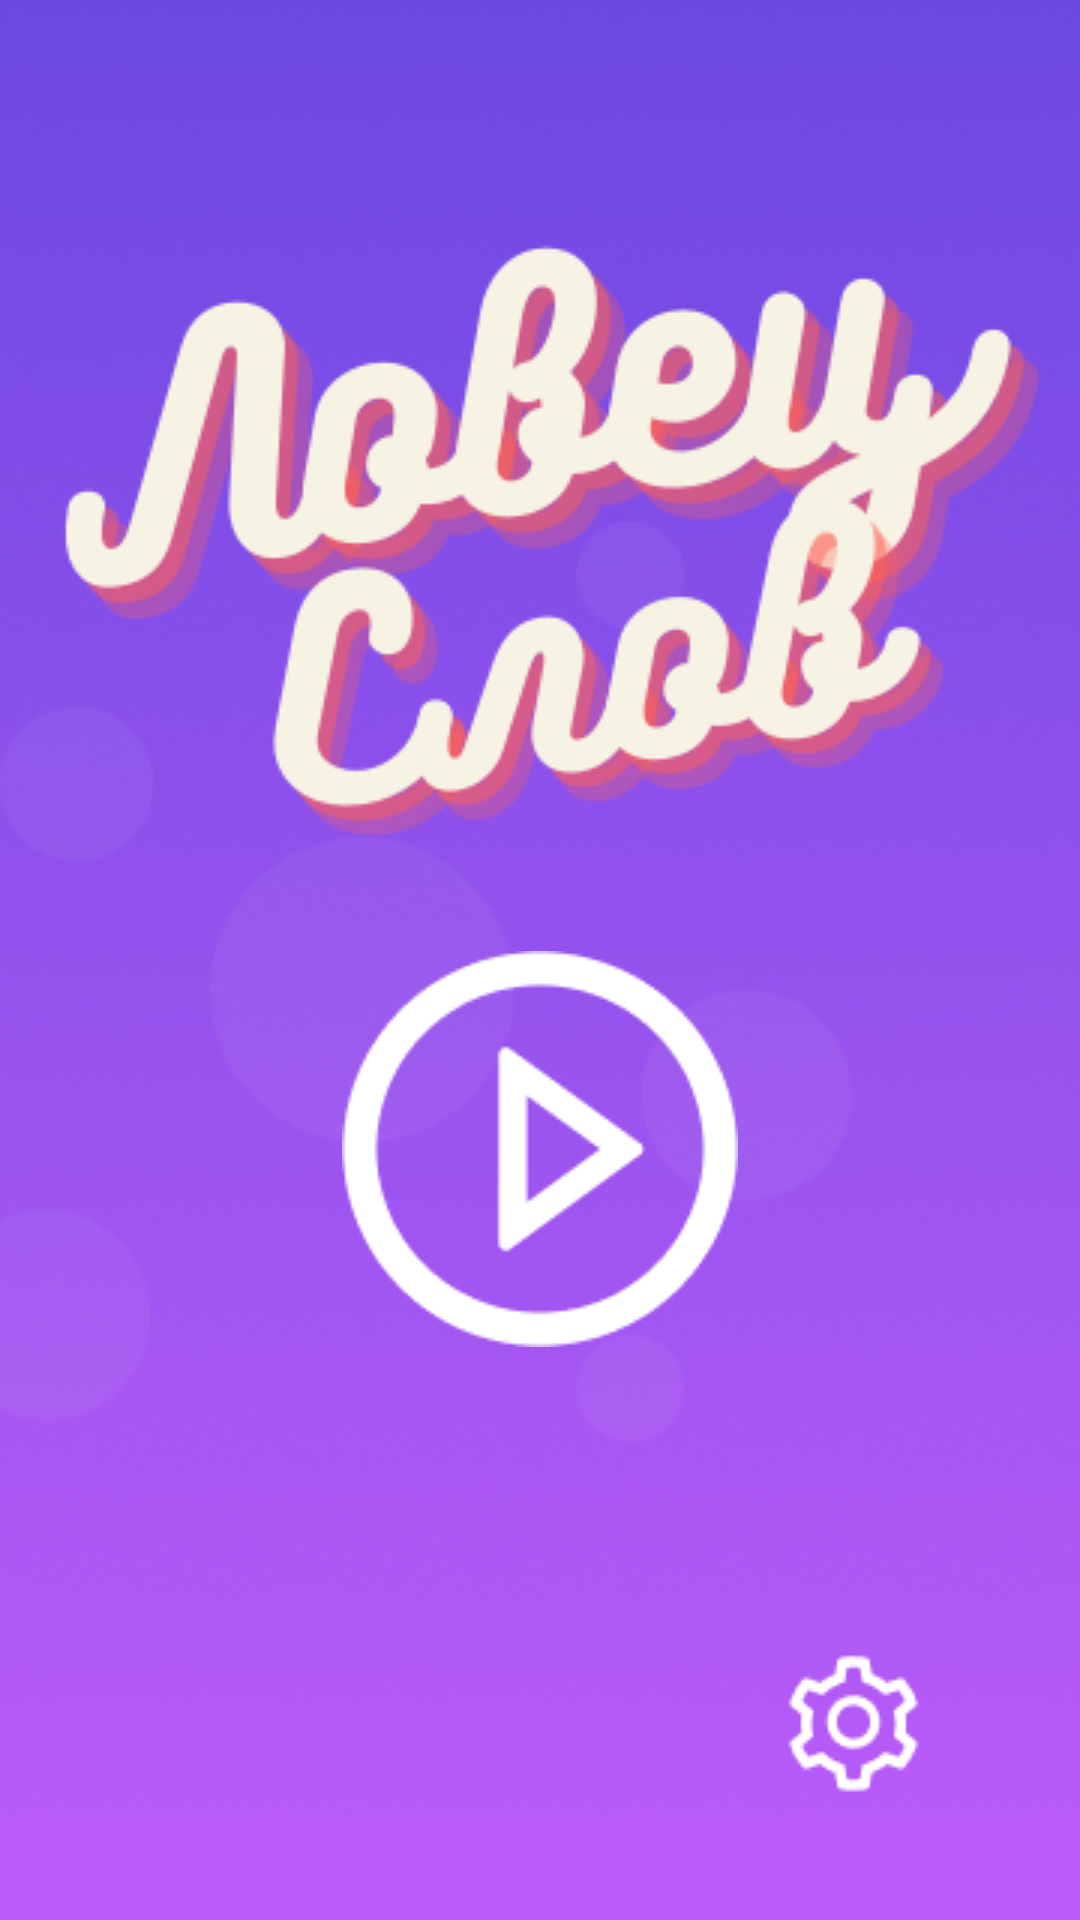

Where icons sit on this 1080px×1920px app screen, as (x1, y1, x2, y2):
settings: (788, 1655, 919, 1792)
